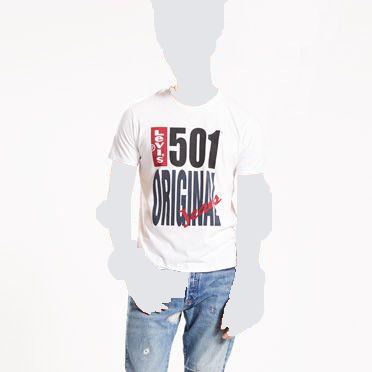teeshirt: (105, 86, 273, 272)
